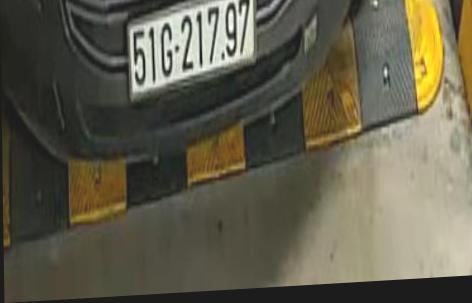License_Plate: (125, 0, 260, 101)
